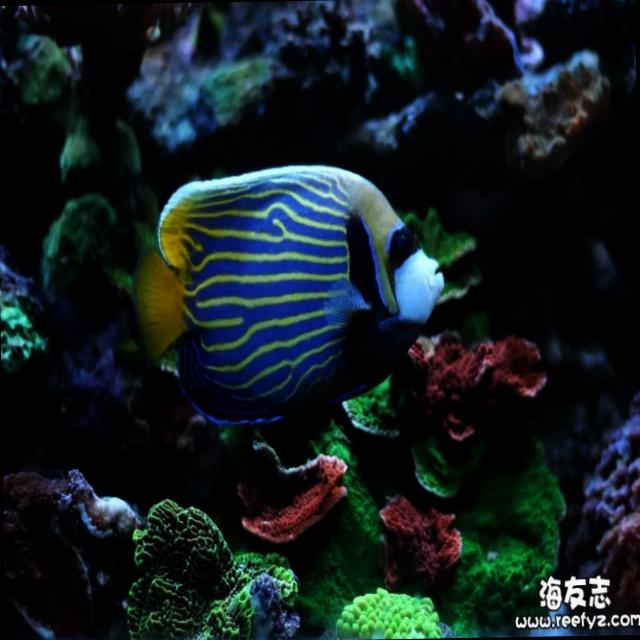AngelFish: (134, 162, 444, 442)
